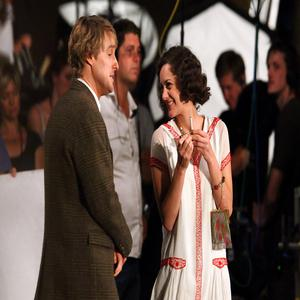cigarette: (190, 115, 194, 139)
